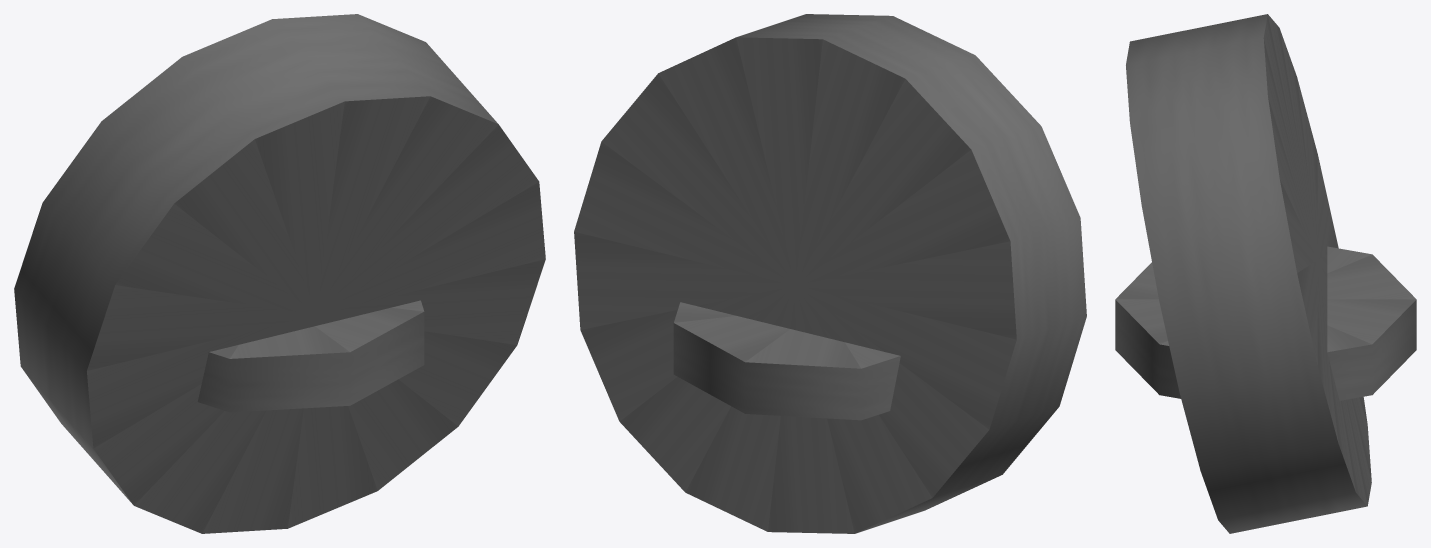
Rendered from mastarmcurve_8x2_c6_down.obj.
3 views of the same model, side by side, from view 1: azimuth 30°, elevation 25°; view 2: azimuth 150°, elevation 25°; view 3: azimuth 270°, elevation 25° (orthographic). The views are drawn at different scales.
Parts seen in each view (by area): view 1: mastarm_8x2_c6_down; view 2: mastarm_8x2_c6_down; view 3: mastarm_8x2_c6_down.
Boxes of the visible parts, box(x1,y1,x2,y2) form: mastarm_8x2_c6_down: box(14, 14, 545, 533); mastarm_8x2_c6_down: box(574, 14, 1086, 533); mastarm_8x2_c6_down: box(1115, 14, 1416, 533).
Size of the model in its own units: 0.6675 by 0.6922 by 0.4.
